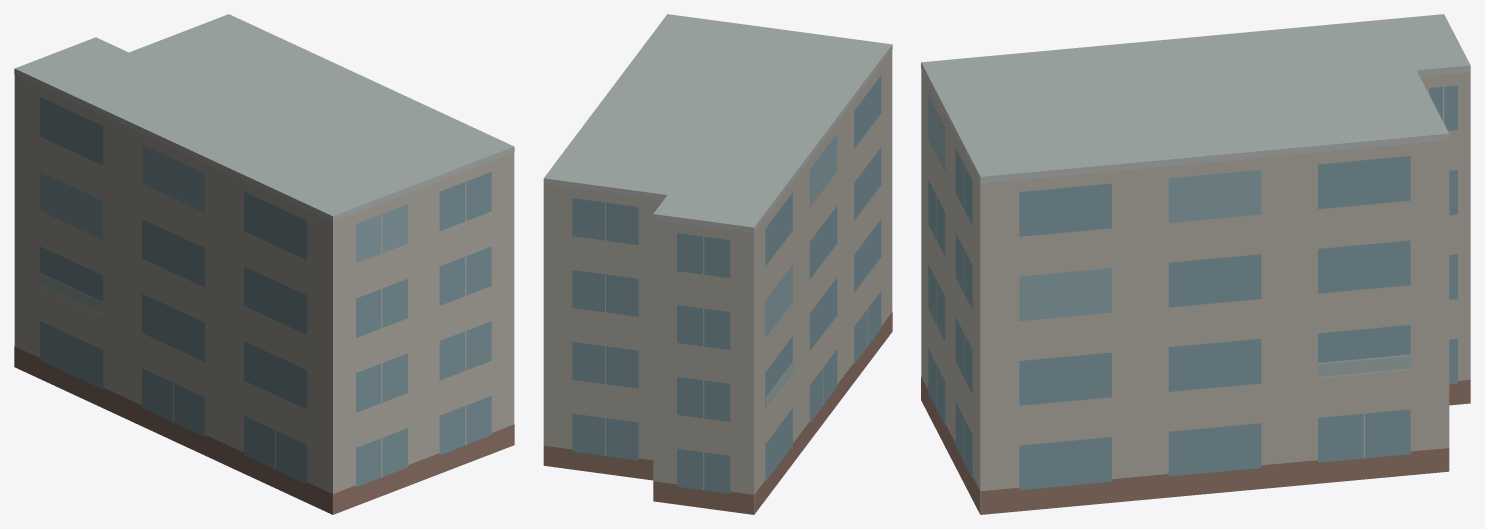
The model's file is residential-6f21e3e8-bd6e-436f-91e3-64c47e2a920d.glb.
3 renders of one model, left to right at view 1: azimuth 30°, elevation 25°; view 2: azimuth 150°, elevation 25°; view 3: azimuth 270°, elevation 25°, orthographic. The views are drawn at different scales.
Visible parts, largest first — view 1: residential-6f21e3e8-bd6e-436f-91e3-64c47e2a920d.tmp; view 2: residential-6f21e3e8-bd6e-436f-91e3-64c47e2a920d.tmp; view 3: residential-6f21e3e8-bd6e-436f-91e3-64c47e2a920d.tmp.
Part boxes in pixels (x1=…): residential-6f21e3e8-bd6e-436f-91e3-64c47e2a920d.tmp: x1=14, y1=14, x2=514, y2=514; residential-6f21e3e8-bd6e-436f-91e3-64c47e2a920d.tmp: x1=543, y1=14, x2=892, y2=514; residential-6f21e3e8-bd6e-436f-91e3-64c47e2a920d.tmp: x1=921, y1=14, x2=1470, y2=514.
Bounding box in the file's own units: 12.62 × 12.2 × 17.99.
